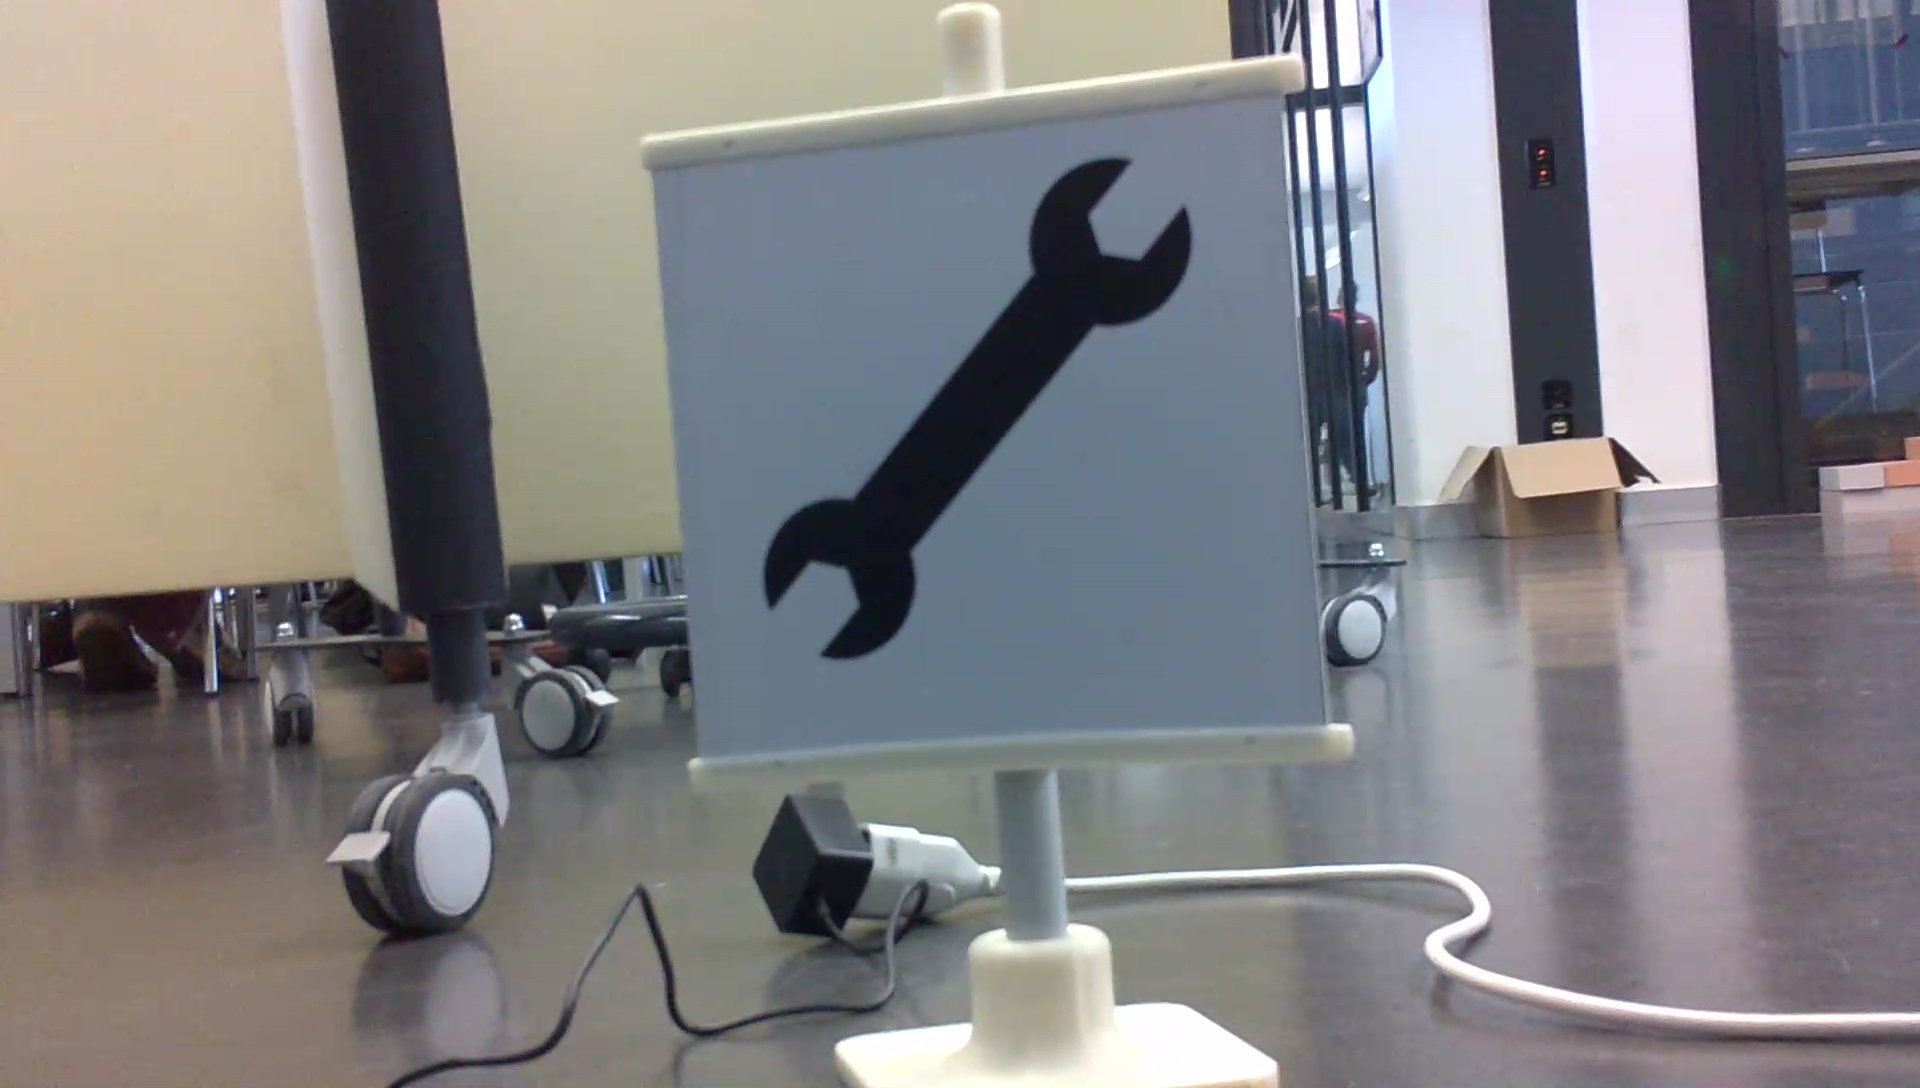wrench: (745, 145, 1208, 684)
